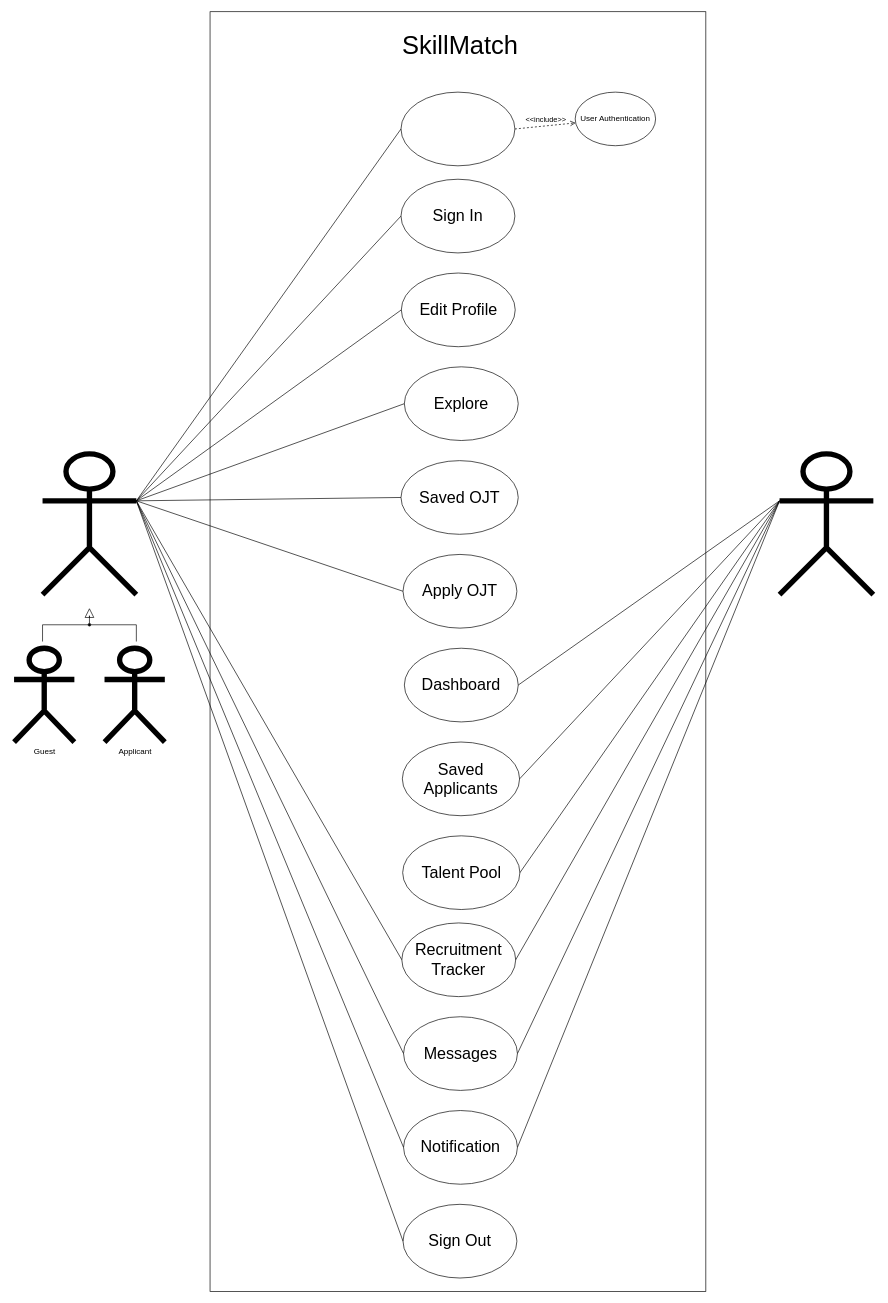
The diagram is 888 pixels wide and 1303 high, and some of its shapes have lost their labels. The shapes that lost their labels are listed below. From the top down, each one's centre as x and y in pixels, then its label:
At [457,128]: "Sign up".
At [89,524]: "User".
At [826,524]: "Admin".
